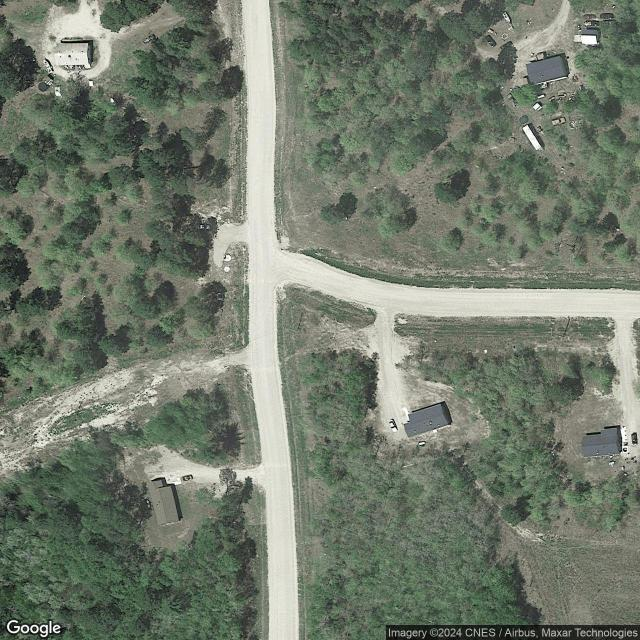Propane: (536, 93, 546, 99), (146, 498, 151, 509), (418, 440, 426, 446)
